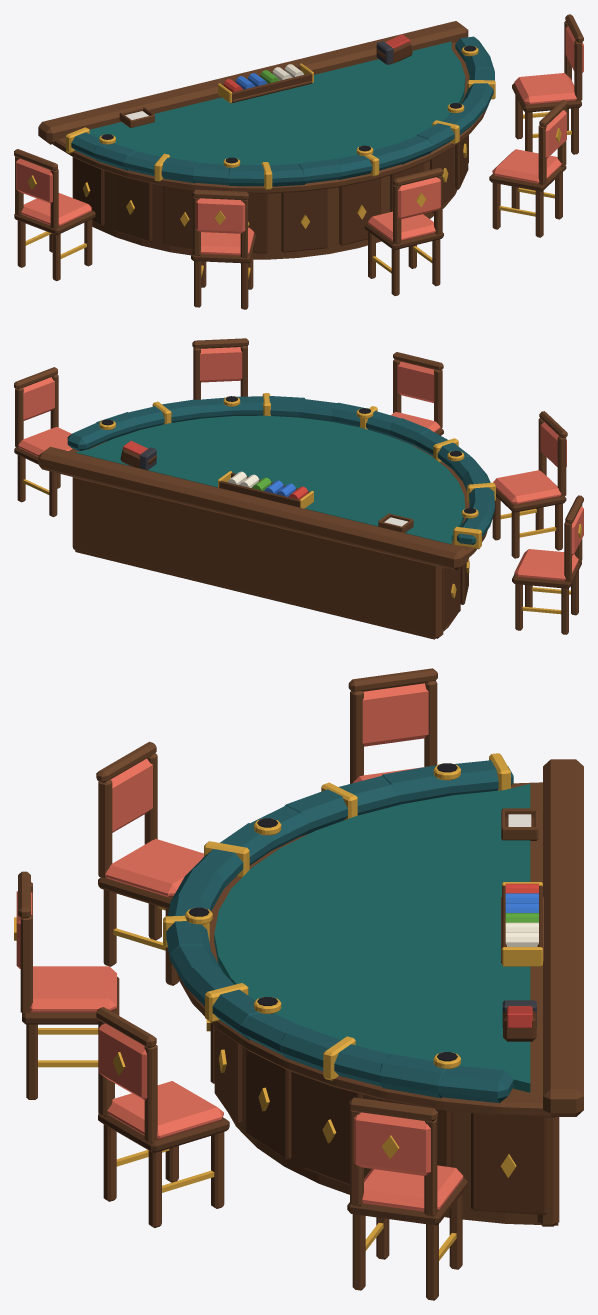
The model's file is blackjack_table.glb.
3 views of the same model, one above another, from view 1: azimuth 30°, elevation 25°; view 2: azimuth 150°, elevation 25°; view 3: azimuth 270°, elevation 25° (orthographic). The views are drawn at different scales.
Parts seen in each view (by area): view 1: blackjack_table; view 2: blackjack_table; view 3: blackjack_table.
Part boxes in pixels (x1,y1,x2,y2): blackjack_table: (14,14,583,309); blackjack_table: (14,338,583,639); blackjack_table: (14,668,583,1300).
Bounding box in the file's own units: 4.11 × 0.83 × 2.22.
